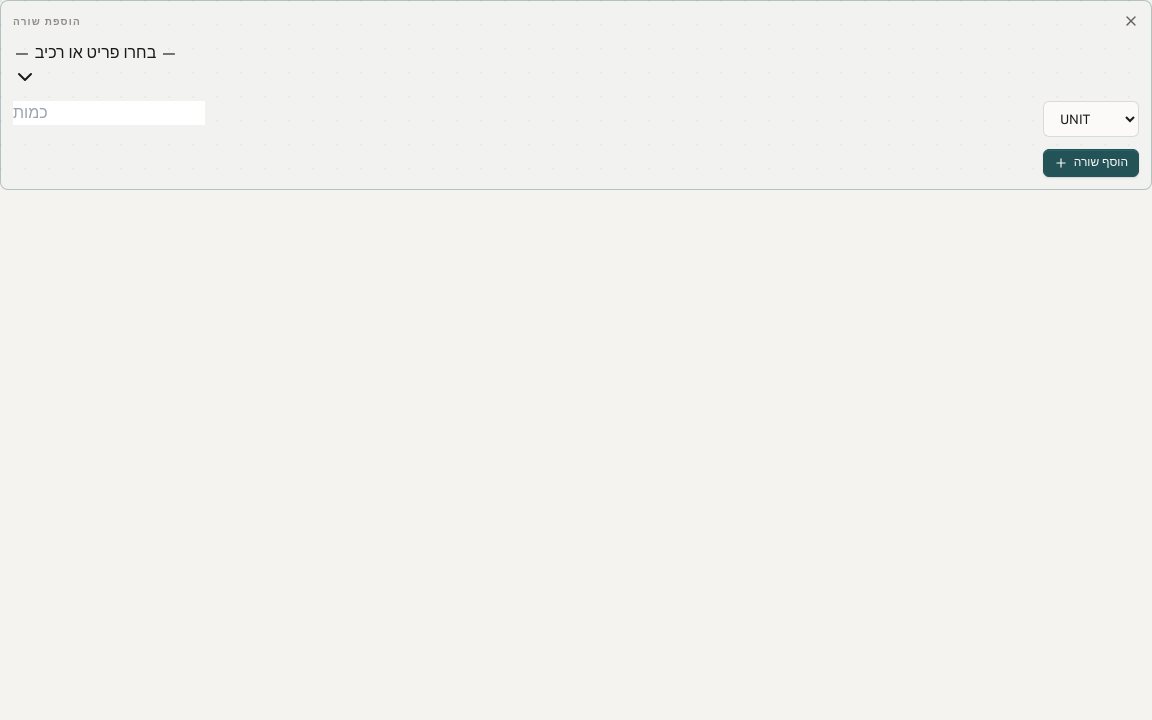
it: AddLineForm › A4 auto-defaults the UoM from the picked orderable
The width and height of the screenshot is (1152, 720).
Step 1. Click the dropdown with test id "add-line-orderable" → (96, 65), box [13,41,178,89]
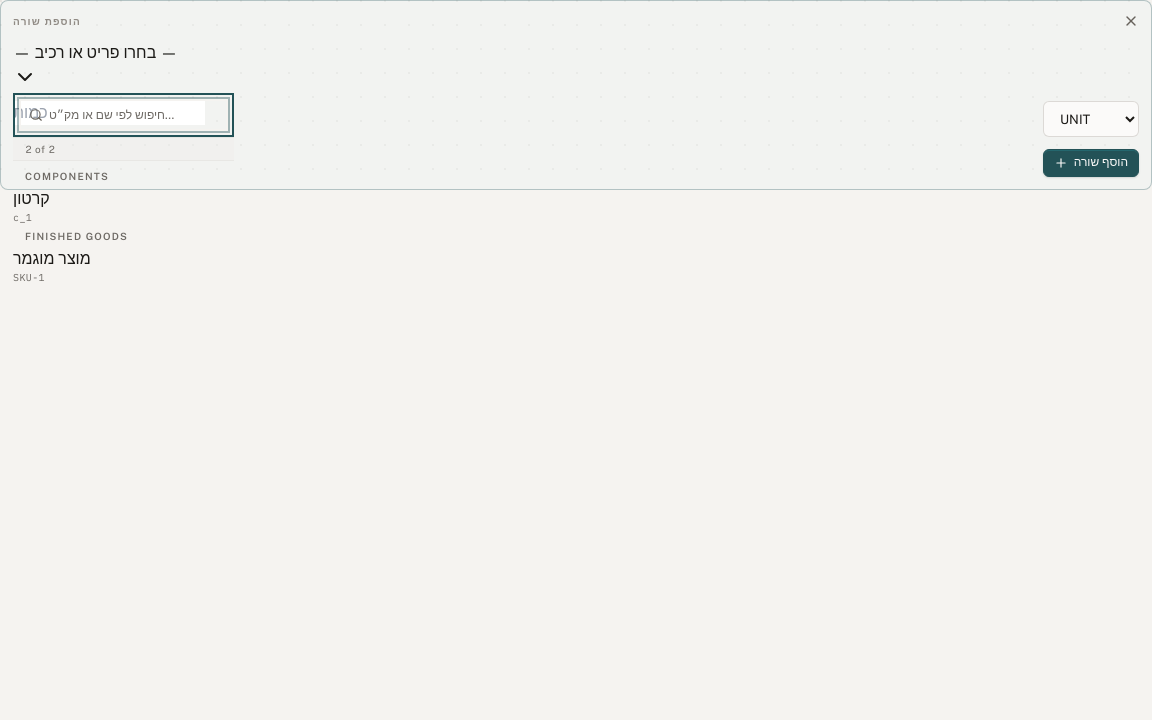
Step 2. Click the text "מוצר מוגמר" → (52, 258), box [13,249,91,268]
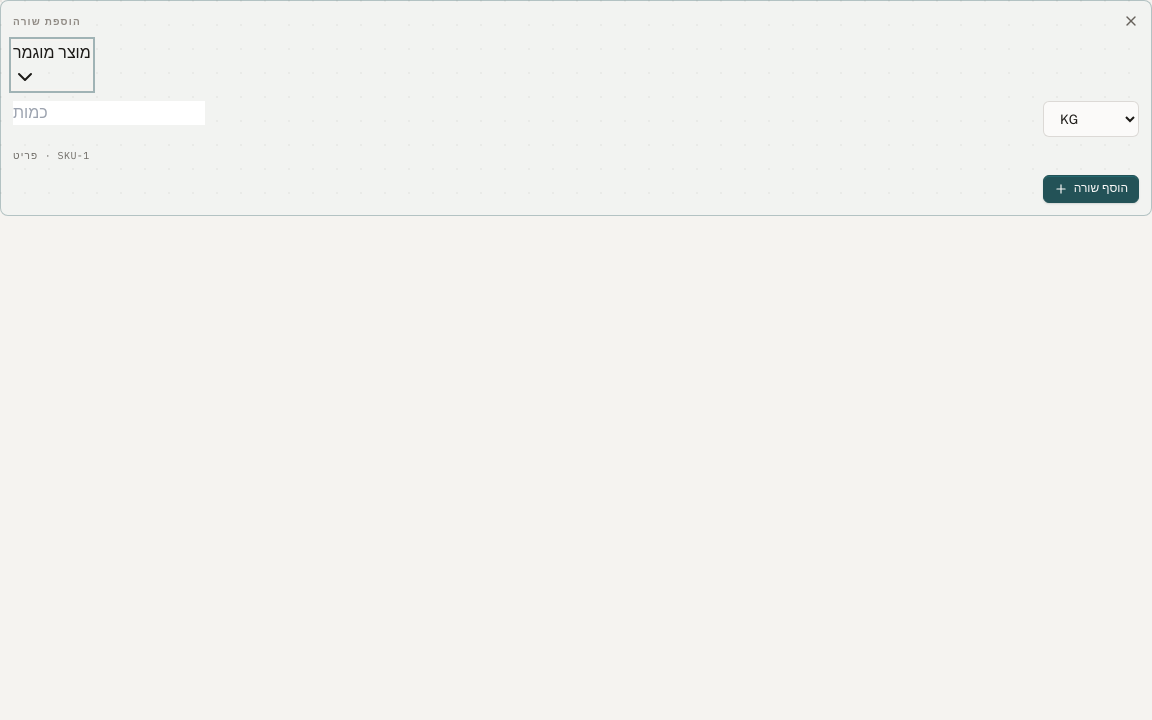
expect the dropdown with test id "add-line-uom" shows "KG": met, box [1043,101,1139,137]
